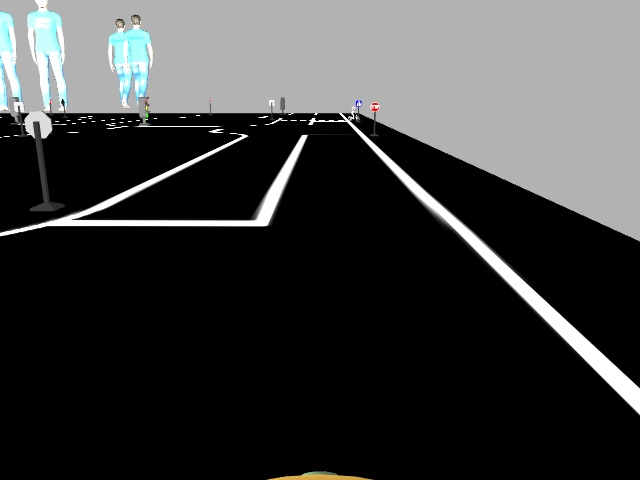Stop: (368, 100, 380, 112)
TrafficLight: (136, 96, 151, 120)
